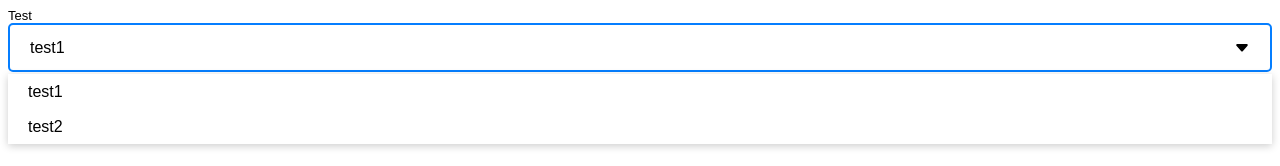
Test: when the dropdown is used in an application › when the dropdown is open › when one of the child Options is selected › should close the menu
Click the button "test2": (45, 126) [28, 118, 63, 134]
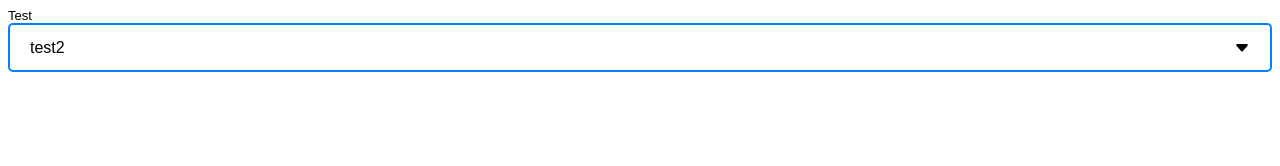
expect the button "test2" is shown: met, box [30, 38, 65, 56]
